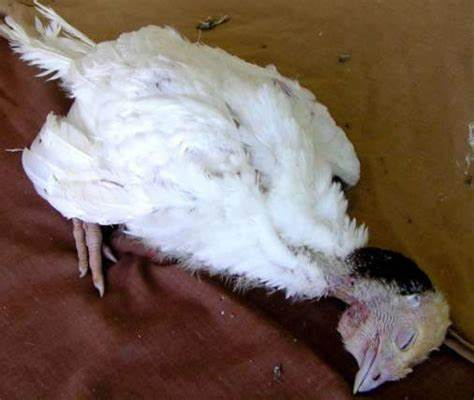Unhealthy: (11, 13, 454, 390)
